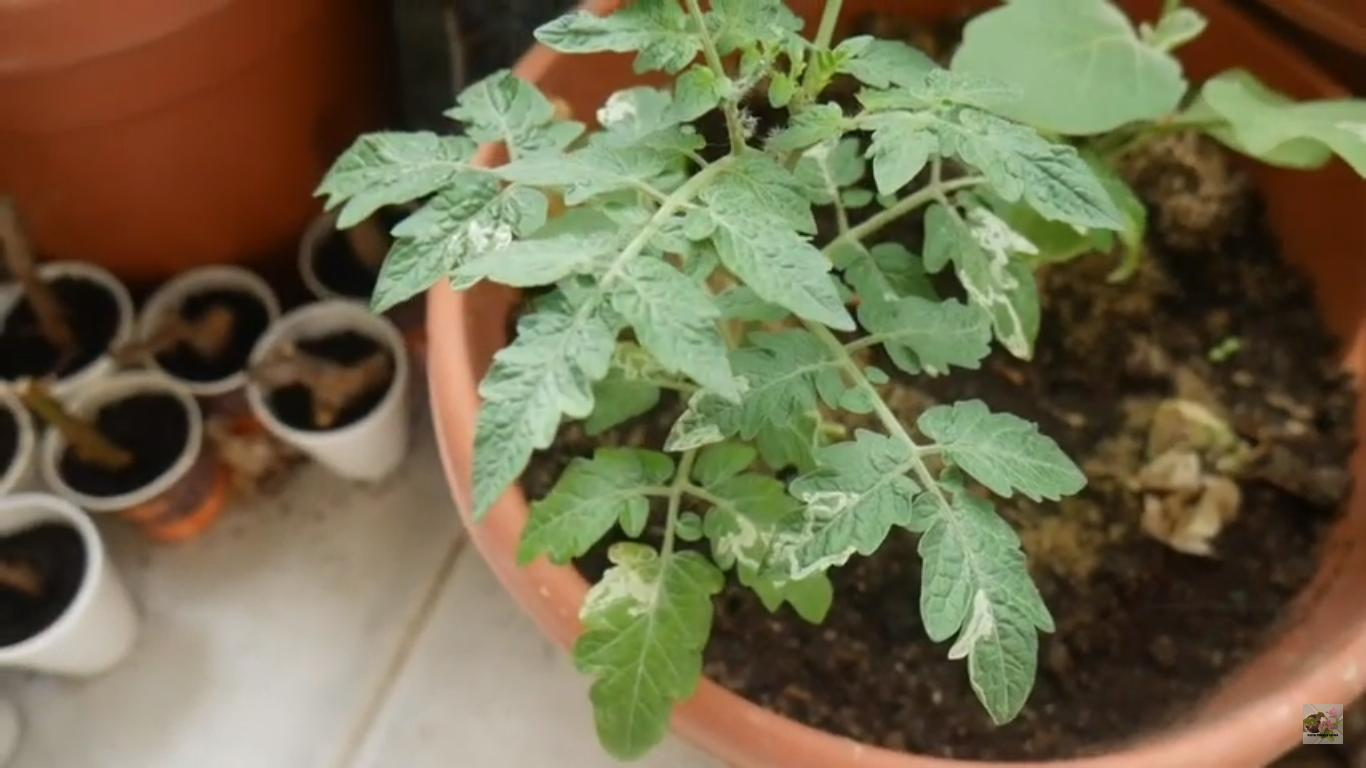Leaf_Miner: (574, 539, 725, 761), (920, 491, 1056, 726), (364, 170, 548, 318), (762, 429, 922, 584), (661, 326, 845, 450), (711, 470, 833, 628), (924, 198, 1044, 358), (586, 340, 664, 389)
